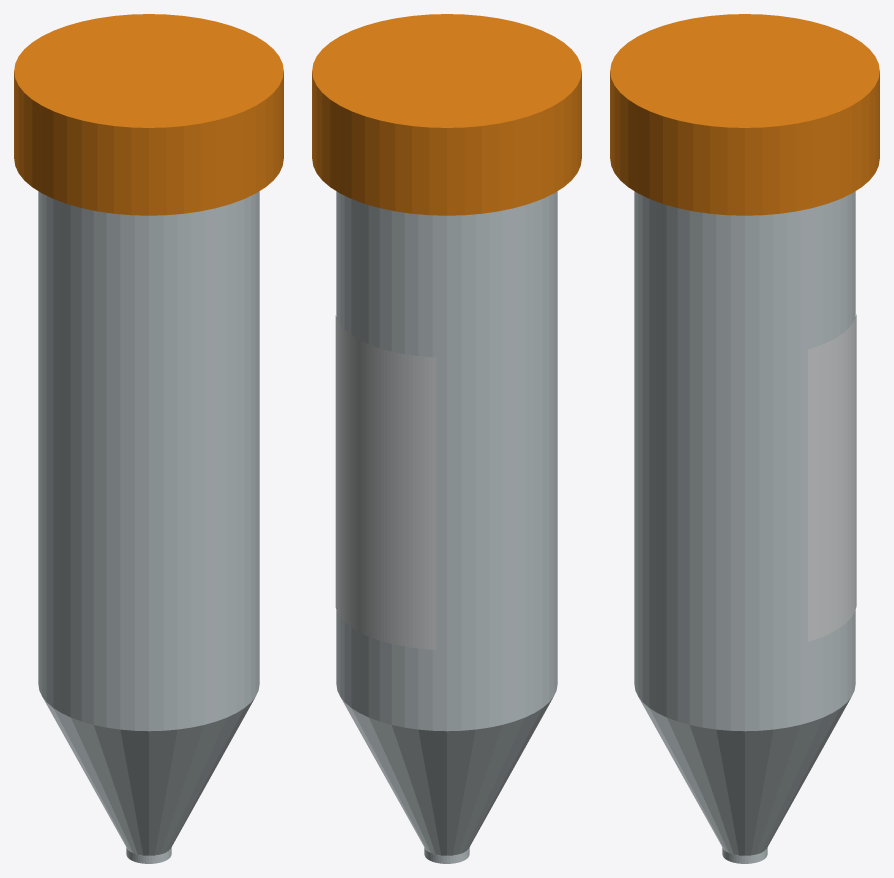
Rendered from reagent_tube_black_02.glb.
3 views of the same model, side by side, from view 1: azimuth 30°, elevation 25°; view 2: azimuth 150°, elevation 25°; view 3: azimuth 270°, elevation 25° (orthographic).
Parts seen in each view (by area): view 1: World_Lab_reagent_tube_black_02_CleanTube, World_Lab_reagent_tube_black_02_CleanCap; view 2: World_Lab_reagent_tube_black_02_CleanTube, World_Lab_reagent_tube_black_02_CleanCap, World_Lab_reagent_tube_black_02_AppearanceBand; view 3: World_Lab_reagent_tube_black_02_CleanTube, World_Lab_reagent_tube_black_02_CleanCap, World_Lab_reagent_tube_black_02_AppearanceBand.
Boxes of the visible parts, x1=… form: World_Lab_reagent_tube_black_02_CleanTube: x1=38, y1=191, x2=259, y2=863; World_Lab_reagent_tube_black_02_CleanCap: x1=14, y1=14, x2=283, y2=215; World_Lab_reagent_tube_black_02_CleanTube: x1=336, y1=191, x2=557, y2=863; World_Lab_reagent_tube_black_02_CleanCap: x1=312, y1=14, x2=581, y2=215; World_Lab_reagent_tube_black_02_AppearanceBand: x1=335, y1=315, x2=436, y2=649; World_Lab_reagent_tube_black_02_CleanTube: x1=634, y1=191, x2=855, y2=863; World_Lab_reagent_tube_black_02_CleanCap: x1=610, y1=14, x2=879, y2=215; World_Lab_reagent_tube_black_02_AppearanceBand: x1=808, y1=314, x2=856, y2=641.
Bounding box in the file's own units: 0.0359 × 0.1152 × 0.0359.
